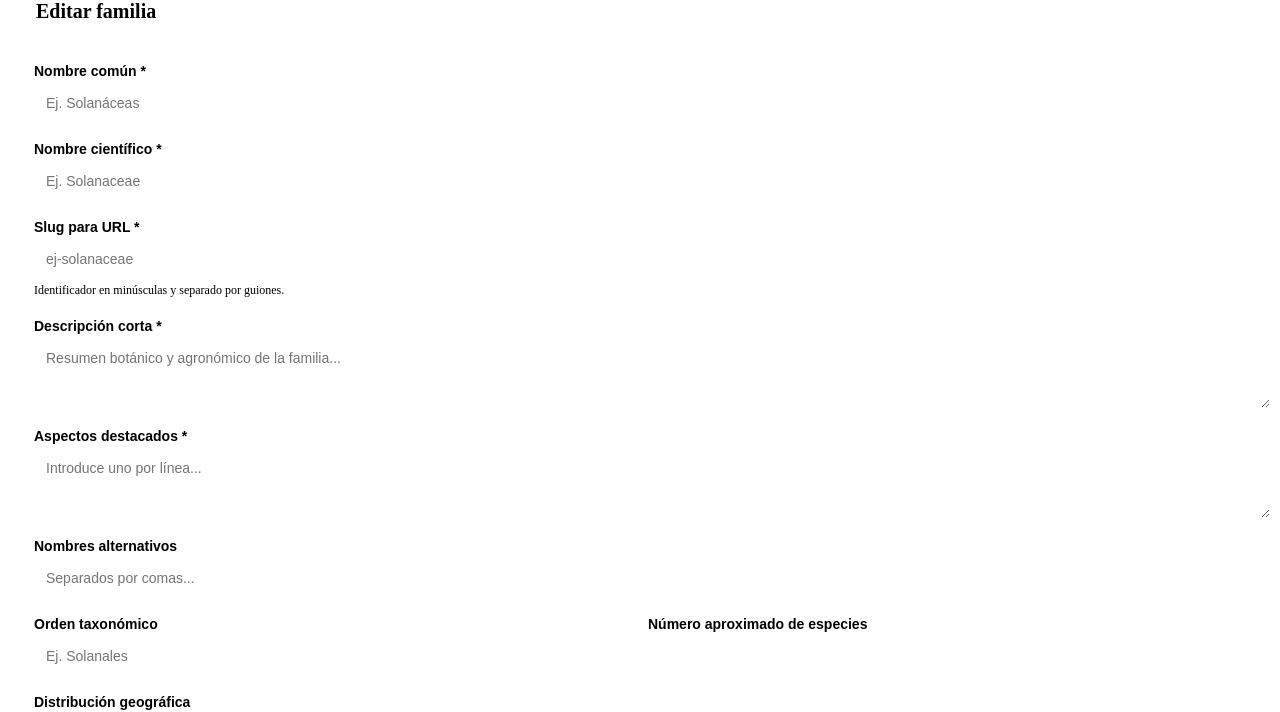
Scenario: FamilyInlineEditForm › keeps form open when user cancels confirmation modal
In the field labelled "Nombre común *": (652, 103) [34,85,1270,121], type " extra"
(page scrolled)
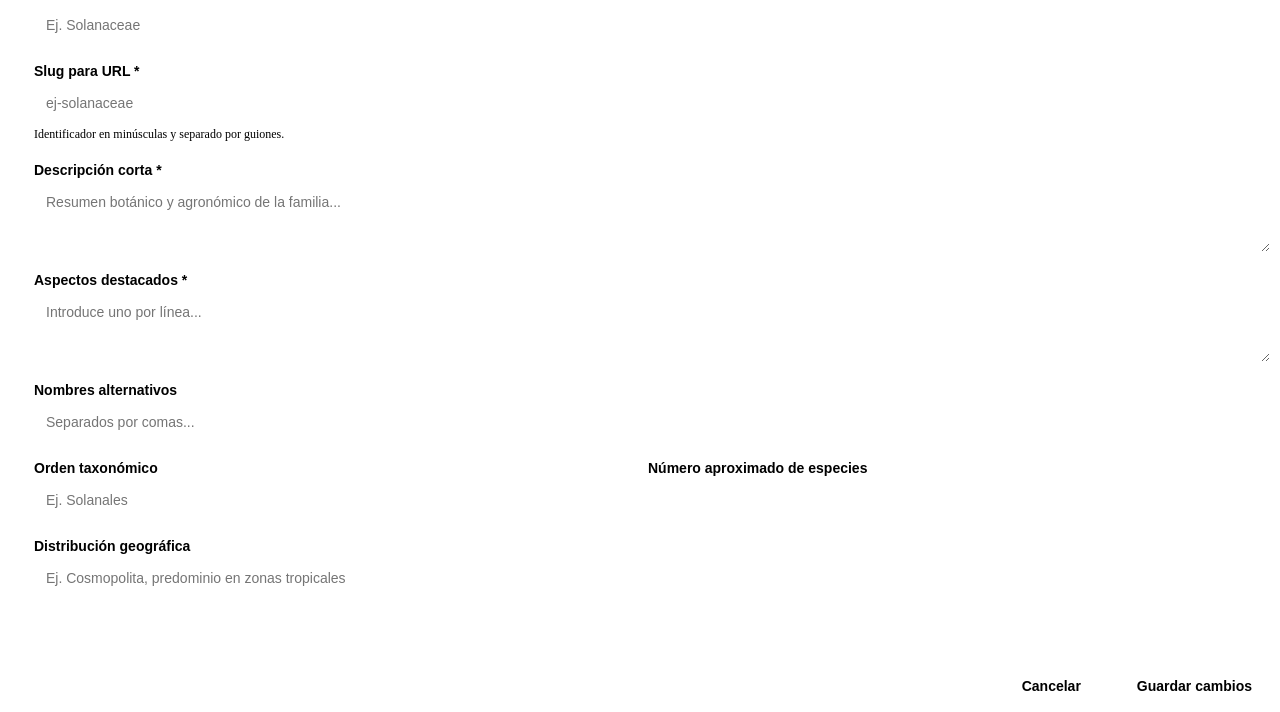
Click the button "Cancelar": (1051, 686) [1002,668,1101,704]
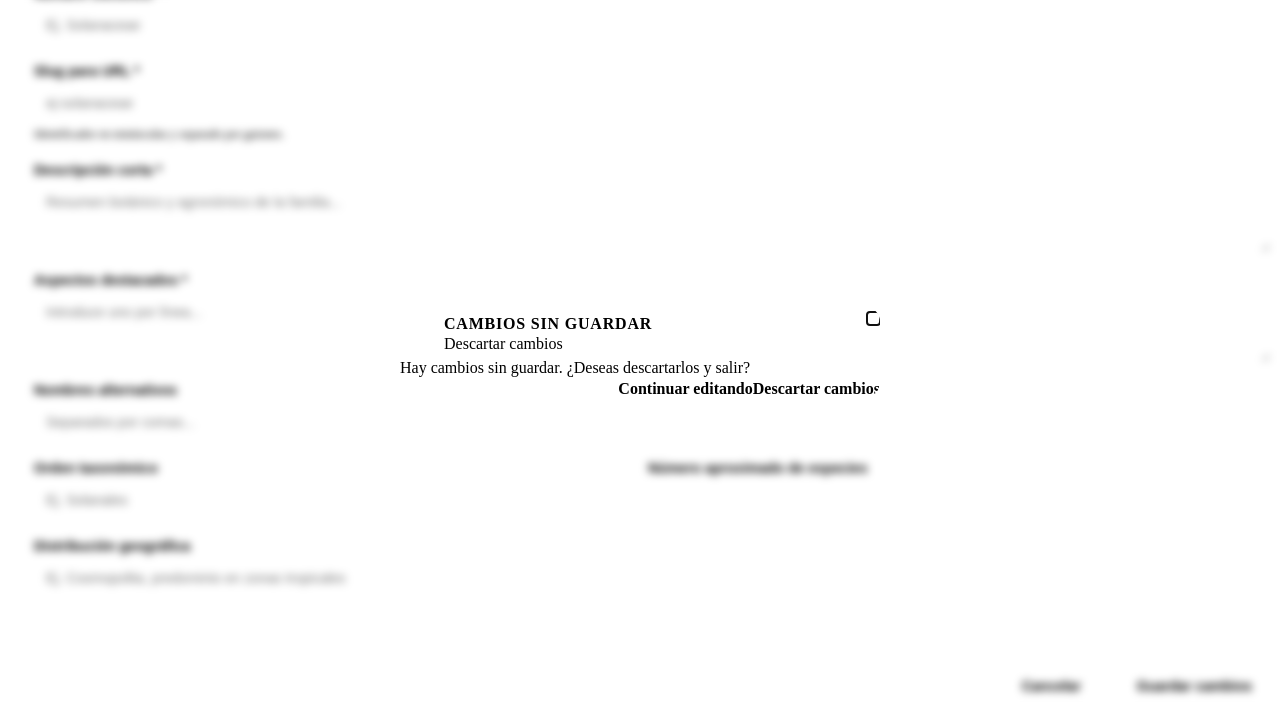
Click the button "Continuar editando": (686, 389) [618,380,753,398]
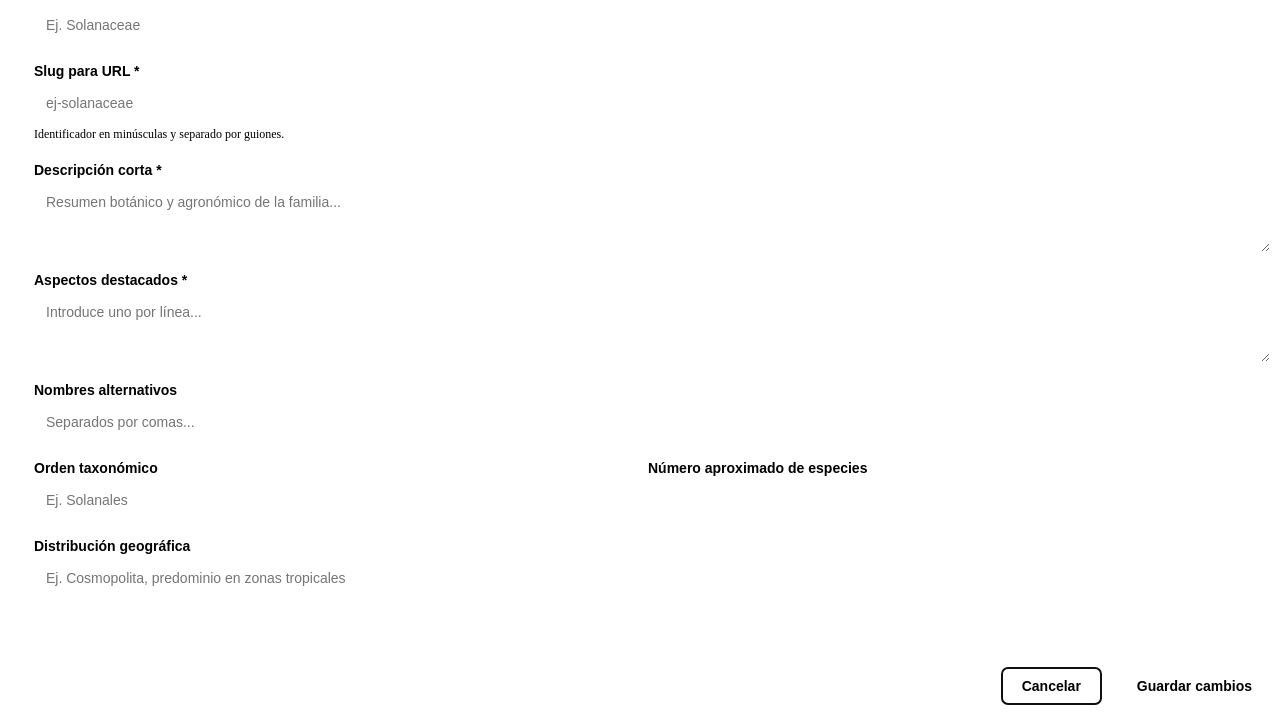
Now the dialog is gone
